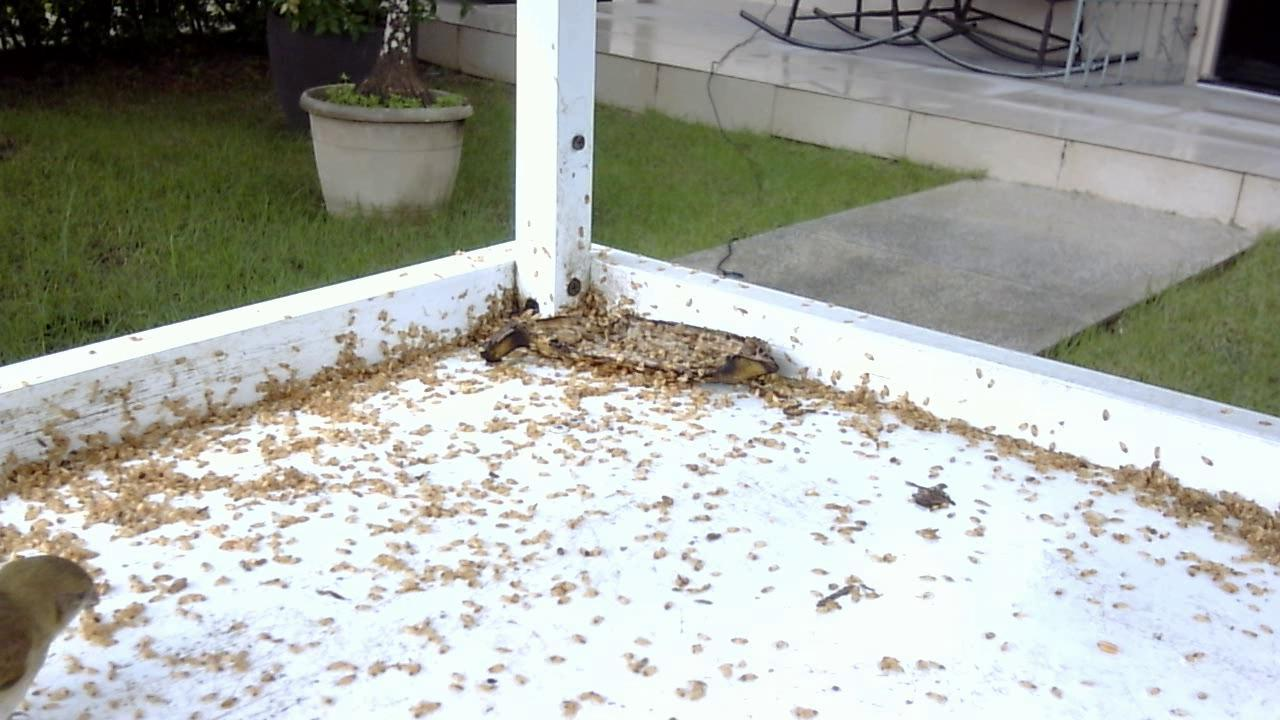canario_do_amazonas: (1, 549, 100, 720)
